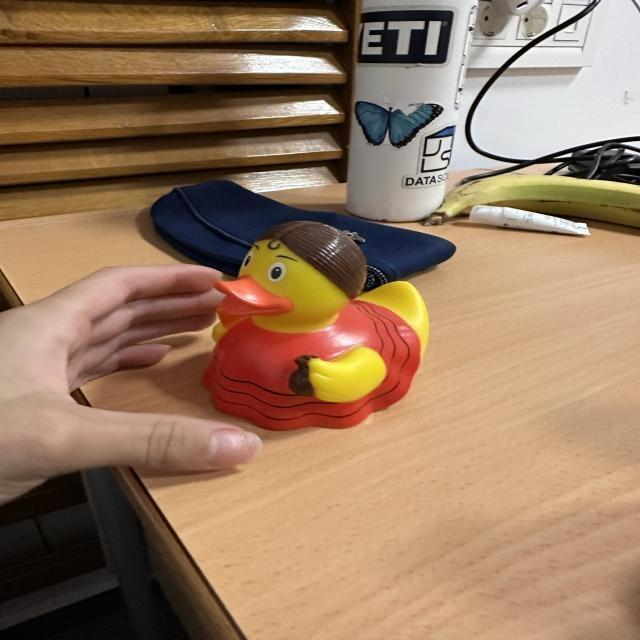rubber-duck: (203, 220, 427, 428)
